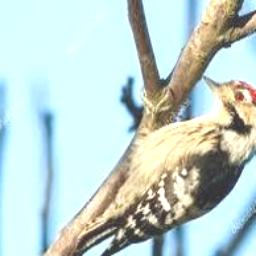Woodpecker: (75, 75, 256, 256)
